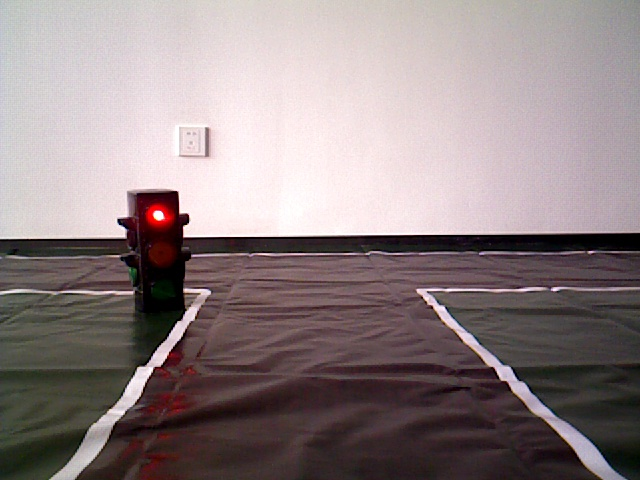red: (125, 194, 182, 314)
